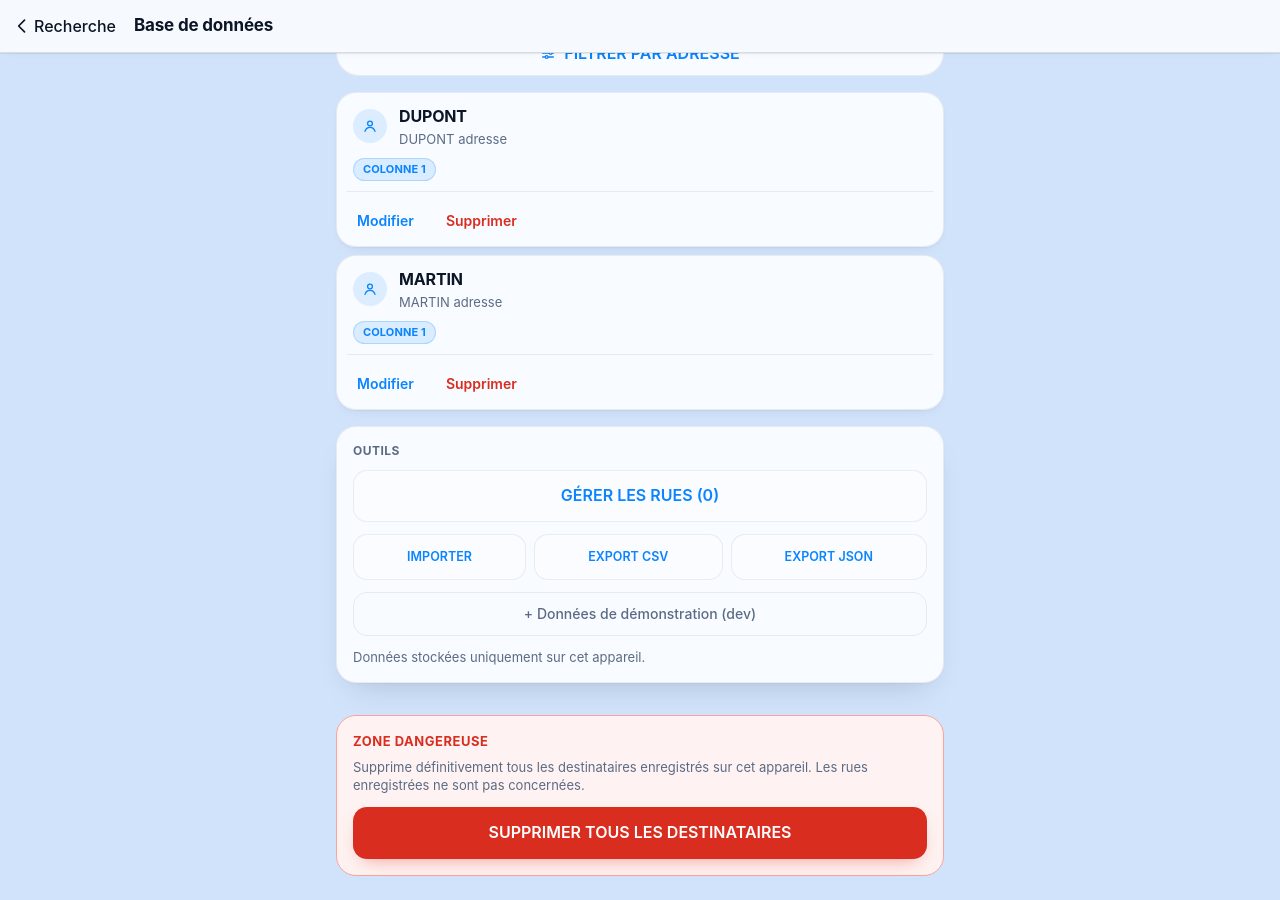
Test: DatabasePage — Zone dangereuse : suppression de tous les destinataires › devient cliquable une fois la case cochée
(page scrolled)
Click the button "SUPPRIMER TOUS LES DESTINATAIRES".
click(640, 833)  # box [353,807,927,859]
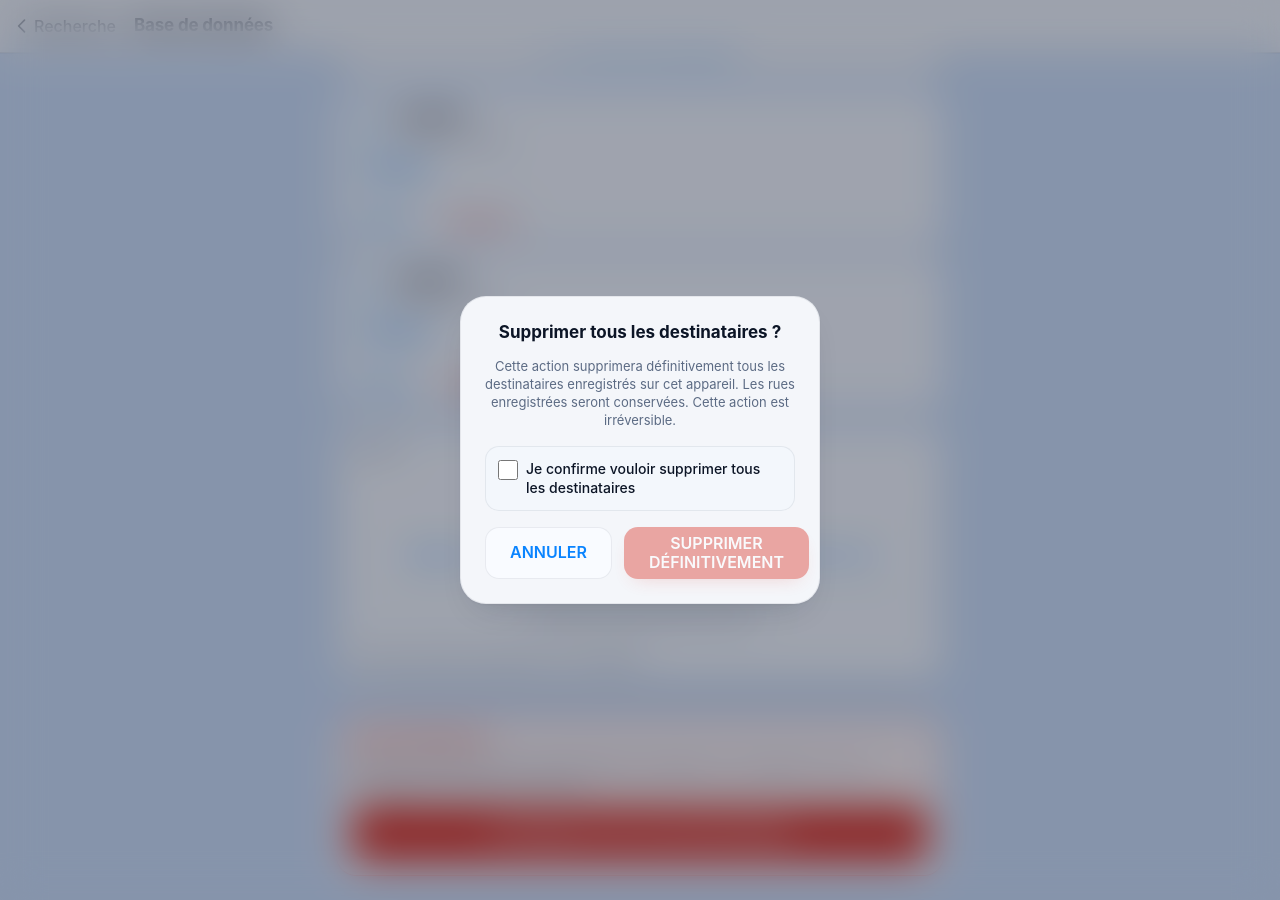
Click the checkbox labelled "Je confirme vouloir supprimer tous les destinataires".
click(508, 470)  # box [498,460,518,480]
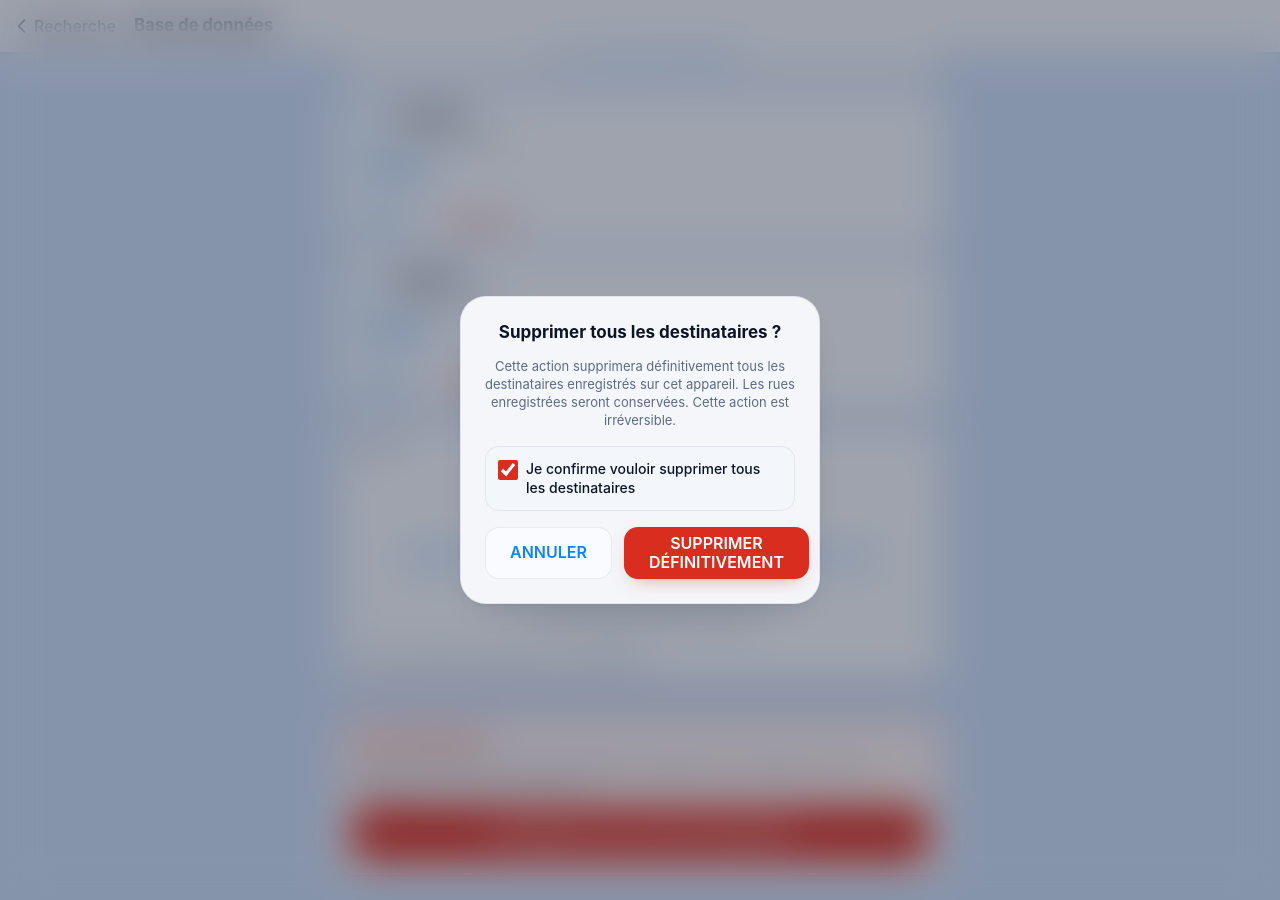
Expected: the button "SUPPRIMER DÉFINITIVEMENT" is enabled, [624,527,809,579]
